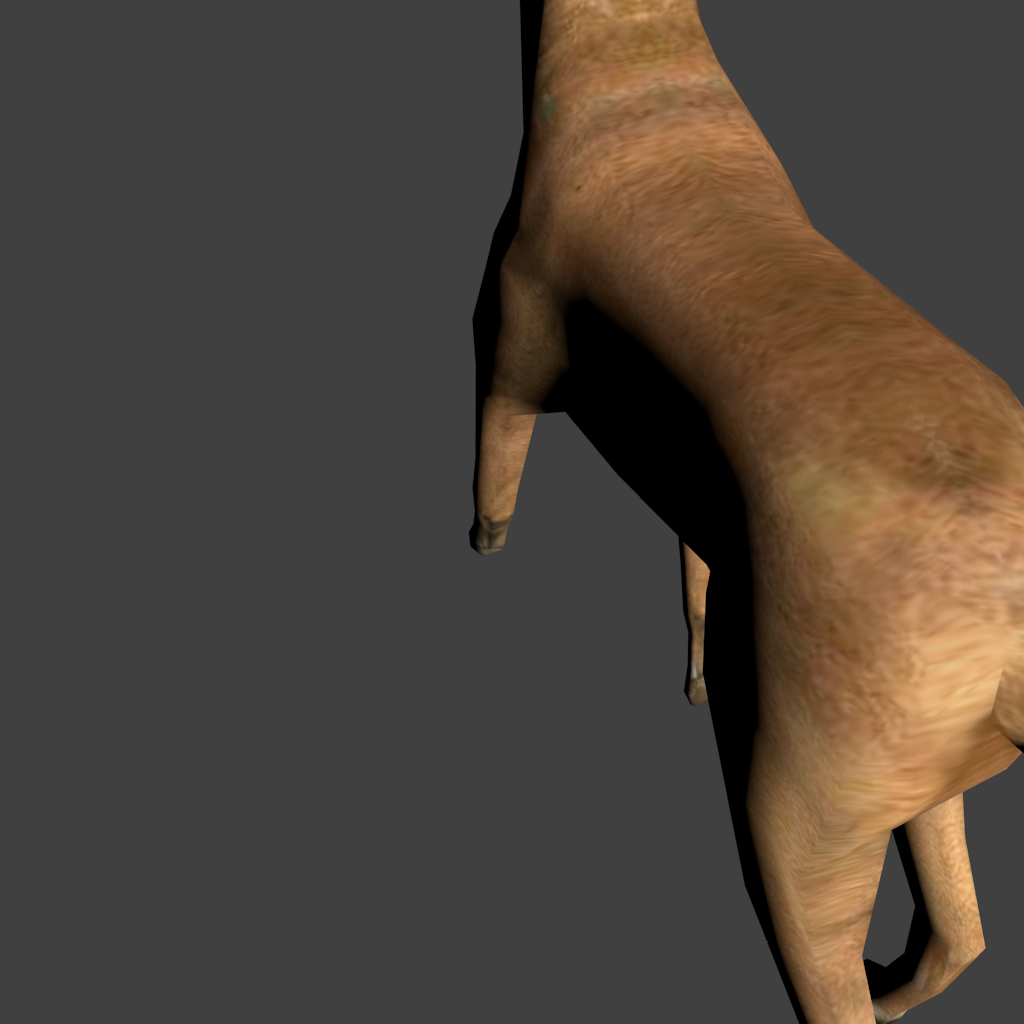Dog: (469, 0, 555, 1024)
